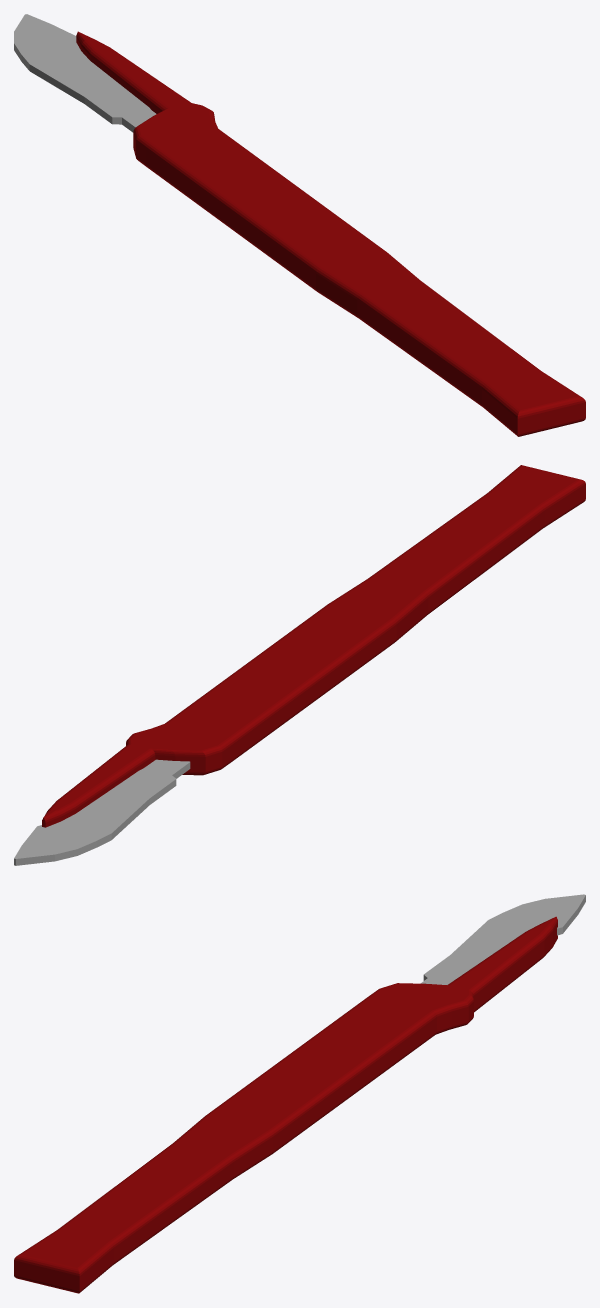
The model's file is Scalpel.fbx.
The picture shows the model from 3 angles, top to bottom: view 1: azimuth 30°, elevation 25°; view 2: azimuth 150°, elevation 25°; view 3: azimuth 330°, elevation 25°; orthographic projection. The views are drawn at different scales.
Visible parts, largest first — view 1: Plane, Plane.001; view 2: Plane, Plane.001; view 3: Plane, Plane.001.
Part boxes in pixels (x1,y1,x2,y2): Plane: (76, 31, 585, 436); Plane.001: (14, 14, 156, 132); Plane: (42, 465, 585, 827); Plane.001: (14, 759, 190, 865); Plane: (14, 916, 557, 1293); Plane.001: (420, 894, 585, 984).
Bounding box in the file's own units: 31.81 × 8.87 × 345.
2 materials, 2 textured.
